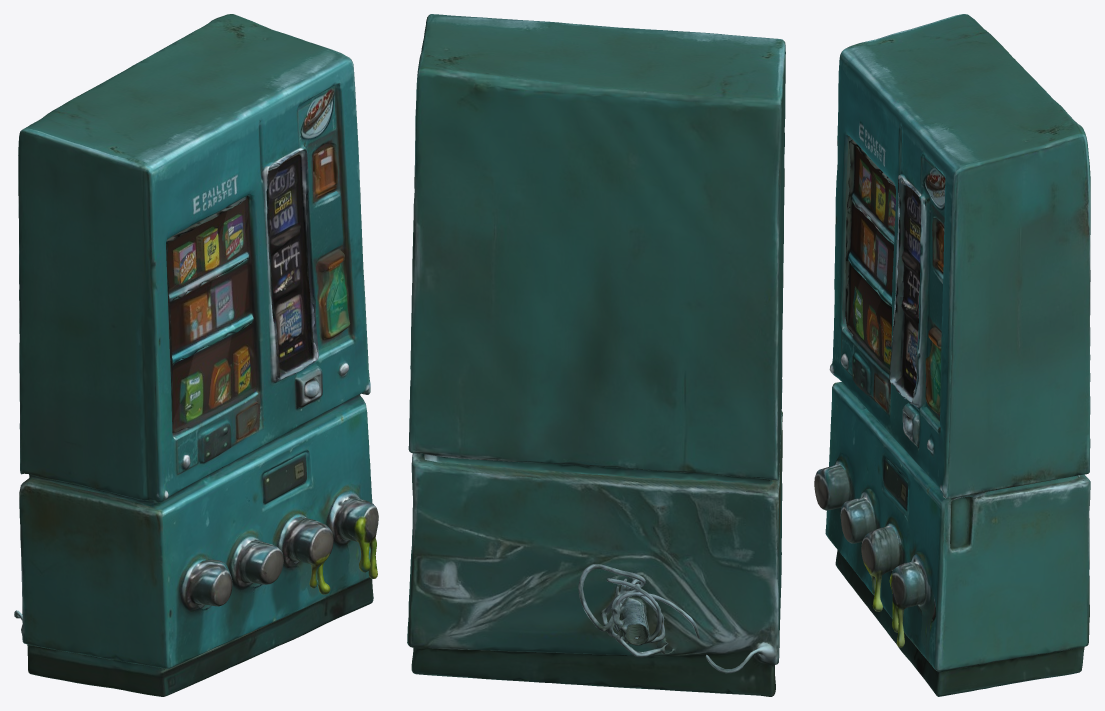
File: soap_vendor.glb
3 views of the same model, side by side, from view 1: azimuth 30°, elevation 25°; view 2: azimuth 150°, elevation 25°; view 3: azimuth 270°, elevation 25° (orthographic). The views are drawn at different scales.
Parts seen in each view (by area): view 1: piece; view 2: piece; view 3: piece.
Part boxes in pixels (box(x1,y1,x2,y2)): piece: box(14, 14, 378, 696); piece: box(407, 14, 785, 696); piece: box(814, 14, 1090, 696).
Bounding box in the file's own units: 0.9644 × 1.5 × 0.7.
1 material, 1 textured.
